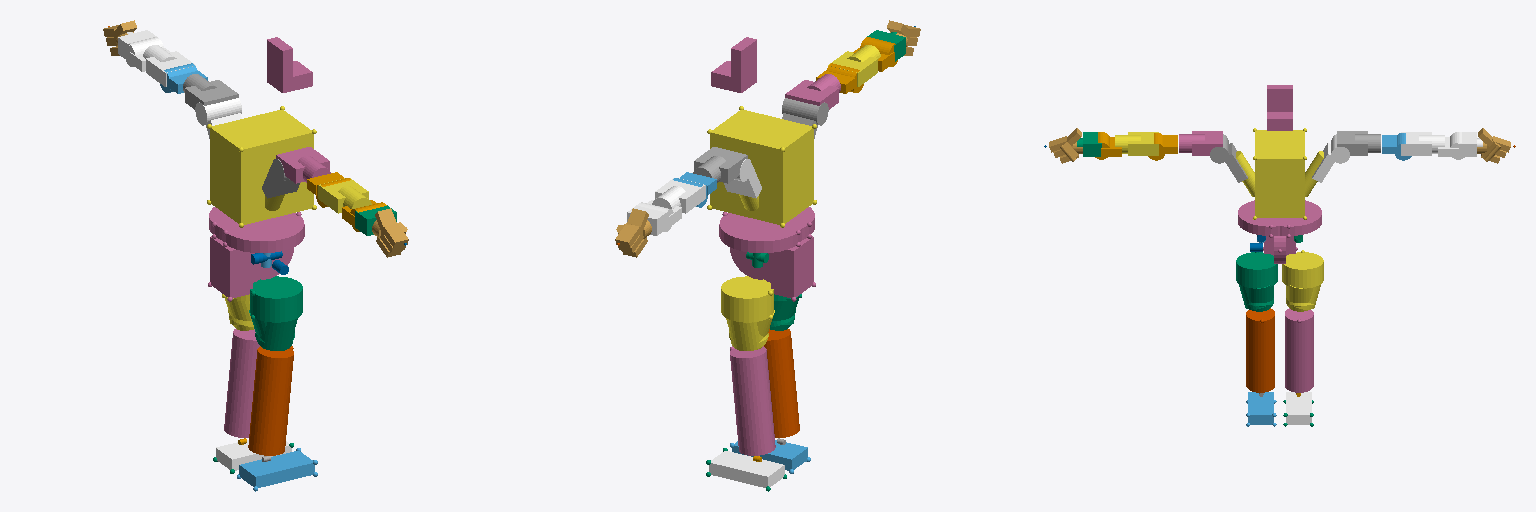
--- Render facts (derived) ---
3 views of the same robot in one strip: view 1: azimuth 30°, elevation 25°; view 2: azimuth 150°, elevation 25°; view 3: azimuth 270°, elevation 25° (orthographic).
Model atlas with 31 links and 30 joints (28 revolute, 2 fixed), rooted at pelvis, posed every joint at zero.
Visible links, largest first — view 1: utorso, pelvis, r_lleg, r_uleg, l_lleg, r_foot, head, r_scap, l_scap, r_larm, right_palm, l_larm (+7 smaller); view 2: utorso, pelvis, l_lleg, l_uleg, r_lleg, l_foot, head, l_scap, r_scap, l_larm, left_palm, r_larm (+7 smaller); view 3: utorso, pelvis, l_lleg, r_lleg, l_uleg, r_uleg, head, l_scap, r_scap, l_larm, r_larm, l_foot (+5 smaller).
Boxes of the visible links, x1,y1,x2,y2 form: utorso: [207, 106, 316, 227]; pelvis: [208, 207, 304, 301]; r_lleg: [248, 346, 293, 455]; r_uleg: [249, 276, 302, 350]; l_lleg: [224, 329, 259, 437]; r_foot: [237, 448, 317, 491]; head: [267, 37, 312, 92]; r_scap: [276, 147, 330, 183]; l_scap: [183, 74, 238, 109]; r_larm: [318, 178, 371, 213]; right_palm: [372, 208, 408, 257]; l_larm: [143, 45, 195, 86]; utorso: [707, 106, 816, 227]; pelvis: [719, 207, 815, 301]; l_lleg: [730, 346, 775, 455]; l_uleg: [721, 276, 774, 350]; r_lleg: [764, 329, 799, 437]; l_foot: [706, 448, 786, 491]; head: [711, 37, 756, 92]; l_scap: [693, 147, 747, 183]; r_scap: [785, 74, 840, 109]; l_larm: [652, 178, 705, 213]; left_palm: [615, 208, 651, 257]; r_larm: [828, 45, 880, 86]; utorso: [1236, 128, 1323, 219]; pelvis: [1238, 200, 1321, 263]; l_lleg: [1285, 308, 1313, 392]; r_lleg: [1246, 308, 1274, 392]; l_uleg: [1282, 250, 1323, 311]; r_uleg: [1236, 252, 1277, 311]; head: [1267, 85, 1292, 130]; l_scap: [1337, 131, 1380, 155]; r_scap: [1179, 131, 1222, 155]; l_larm: [1401, 132, 1444, 155]; r_larm: [1115, 132, 1158, 155]; l_foot: [1283, 392, 1313, 426].
Size in the robot's own frame: 0.3795 by 2.26 by 1.76 metres.
Geometry: primitives only (box / cylinder / sphere), no mesh files.

The robot description file, URDF, robot "atlas":
<?xml version="1.0" ?>
<!-- =================================================================================== -->
<!-- |    This document was autogenerated by xacro from atlas_simple_visuals.urdf.xacro | -->
<!-- |    EDITING THIS FILE BY HAND IS NOT RECOMMENDED                                 | -->
<!-- =================================================================================== -->
<robot name="atlas" xmlns:xacro="http://www.ros.org/wiki/xacro">
  <link name="l_clav">
    <inertial>
      <mass value="2.369"/>
      <origin rpy="0 -0 0" xyz="0.014 0.058 0.029"/>
      <inertia ixx="0.004" ixy="0.001" ixz="0" iyy="0.006" iyz="0" izz="0.007"/>
    </inertial>
    <collision group="default">
      <origin rpy="0 1.5707963267949 0" xyz="0 0.0697 0.0261"/>
      <geometry>
        <cylinder length="0.1525" radius="0.045"/>
      </geometry>
    </collision>
    <visual>
      <origin rpy="0 1.5707963267949 0" xyz="0 0.0697 0.0261"/>
      <geometry>
        <cylinder length="0.1525" radius="0.045"/>
      </geometry>
      <material name="vis">
        <color rgba="1 1 1 1"/>
      </material>
    </visual>
    <collision group="default">
      <origin rpy="1.0472 0 0" xyz="-0.005 -0.0074 -0.0538"/>
      <geometry>
        <box size="0.13 0.15 0.05"/>
      </geometry>
    </collision>
    <visual>
      <origin rpy="1.0472 0 0" xyz="-0.005 -0.0074 -0.0538"/>
      <geometry>
        <box size="0.13 0.15 0.05"/>
      </geometry>
      <material name="vis">
        <color rgba="1 1 1 1"/>
      </material>
    </visual>
  </link>
  <link name="l_farm">
    <inertial>
      <mass value="0.981"/>
      <origin rpy="0 -0 0" xyz="0 0.041 0"/>
      <inertia ixx="0.003" ixy="0" ixz="0" iyy="0.001" iyz="0" izz="0.003"/>
    </inertial>
    <collision group="default">
      <origin rpy="0 1.5708 0" xyz="0.0 0.065 0.004"/>
      <geometry>
        <cylinder length="0.125" radius="0.045"/>
      </geometry>
    </collision>
    <visual>
      <origin rpy="0 1.5708 0" xyz="0.0 0.065 0.004"/>
      <geometry>
        <cylinder length="0.125" radius="0.045"/>
      </geometry>
      <material name="vis">
        <color rgba="1 1 1 1"/>
      </material>
    </visual>
    <collision group="default">
      <origin rpy="0 0 0" xyz="0.001 0.015 -0.002"/>
      <geometry>
        <box size="0.135 0.1 0.045"/>
      </geometry>
    </collision>
    <visual>
      <origin rpy="0 0 0" xyz="0.001 0.015 -0.002"/>
      <geometry>
        <box size="0.135 0.1 0.045"/>
      </geometry>
      <material name="vis">
        <color rgba="1 1 1 1"/>
      </material>
    </visual>
  </link>
  <link name="l_foot">
    <inertial>
      <mass value="0.867"/>
      <origin rpy="0 -0 0" xyz="0.027 0 -0.067"/>
      <inertia ixx="0.002" ixy="0" ixz="0" iyy="0.00350421" iyz="0" izz="0.00400651"/>
    </inertial>
    <collision group="heel">
      <origin rpy="0 0 0" xyz="-0.082 0.0624435 -0.081119"/>
      <geometry>
        <sphere radius="0"/>
      </geometry>
    </collision>
    <visual>
      <origin rpy="0 0 0" xyz="-0.082 0.0624435 -0.081119"/>
      <geometry>
        <sphere radius="0.01"/>
      </geometry>
    </visual>
    <collision group="heel">
      <origin rpy="0 0 0" xyz="-0.082 -0.0624435 -0.081119"/>
      <geometry>
        <sphere radius="0"/>
      </geometry>
    </collision>
    <visual>
      <origin rpy="0 0 0" xyz="-0.082 -0.0624435 -0.081119"/>
      <geometry>
        <sphere radius="0.01"/>
      </geometry>
    </visual>
    <collision group="toe">
      <origin rpy="0 0 0" xyz="0.178 0.0624435 -0.081119"/>
      <geometry>
        <sphere radius="0"/>
      </geometry>
    </collision>
    <visual>
      <origin rpy="0 0 0" xyz="0.178 0.0624435 -0.081119"/>
      <geometry>
        <sphere radius="0.01"/>
      </geometry>
    </visual>
    <collision group="toe">
      <origin rpy="0 0 0" xyz="0.178 -0.0624435 -0.081119"/>
      <geometry>
        <sphere radius="0"/>
      </geometry>
    </collision>
    <visual>
      <origin rpy="0 0 0" xyz="0.178 -0.0624435 -0.081119"/>
      <geometry>
        <sphere radius="0.01"/>
      </geometry>
    </visual>
    <collision group="nail">
      <origin rpy="0 0 0" xyz="0.178 0.0624435 -0.081119"/>
      <geometry>
        <sphere radius="0"/>
      </geometry>
    </collision>
    <visual>
      <origin rpy="0 0 0" xyz="0.178 0.0624435 -0.081119"/>
      <geometry>
        <sphere radius="0.01"/>
      </geometry>
    </visual>
    <collision group="nail">
      <origin rpy="0 0 0" xyz="0.178 -0.0624435 -0.081119"/>
      <geometry>
        <sphere radius="0"/>
      </geometry>
    </collision>
    <visual>
      <origin rpy="0 0 0" xyz="0.178 -0.0624435 -0.081119"/>
      <geometry>
        <sphere radius="0.01"/>
      </geometry>
    </visual>
    <collision group="nail">
      <origin rpy="0 0 0" xyz="0.178 0.0624435 -0.031119"/>
      <geometry>
        <sphere radius="0"/>
      </geometry>
    </collision>
    <visual>
      <origin rpy="0 0 0" xyz="0.178 0.0624435 -0.031119"/>
      <geometry>
        <sphere radius="0.01"/>
      </geometry>
    </visual>
    <collision group="nail">
      <origin rpy="0 0 0" xyz="0.178 -0.0624435 -0.031119"/>
      <geometry>
        <sphere radius="0"/>
      </geometry>
    </collision>
    <visual>
      <origin rpy="0 0 0" xyz="0.178 -0.0624435 -0.031119"/>
      <geometry>
        <sphere radius="0.01"/>
      </geometry>
    </visual>
    <collision group="default">
      <origin rpy="0 0 0" xyz="0.048 0 -0.056119"/>
      <geometry>
        <box size="0.26 0.124887 0.05"/>
      </geometry>
    </collision>
    <visual>
      <origin rpy="0 0 0" xyz="0.048 0 -0.056119"/>
      <geometry>
        <box size="0.26 0.124887 0.05"/>
      </geometry>
      <material name="vis">
        <color rgba="1 1 1 1"/>
      </material>
    </visual>
  </link>
  <link name="l_hand">
    <inertial>
      <mass value="2.263"/>
      <origin rpy="0 -0 0" xyz="0 0.093 0"/>
      <inertia ixx="0.01" ixy="0" ixz="0" iyy="0.002" iyz="0" izz="0.01"/>
    </inertial>
    <collision group="default">
      <origin rpy="0 0 0" xyz="0.0 0.115 0.0"/>
      <geometry>
        <sphere radius="0"/>
      </geometry>
    </collision>
    <visual>
      <origin rpy="0 0 0" xyz="0.0 0.115 0.0"/>
      <geometry>
        <sphere radius="0.01"/>
      </geometry>
    </visual>
    <collision group="default">
      <origin rpy="1.5707963267949 0 0" xyz="0.001 0.1 0.01"/>
      <geometry>
        <cylinder length="0.05" radius="0.03"/>
      </geometry>
    </collision>
    <visual>
      <origin rpy="1.5707963267949 0 0" xyz="0.001 0.1 0.01"/>
      <geometry>
        <cylinder length="0.05" radius="0.03"/>
      </geometry>
      <material name="vis">
        <color rgba="1 1 1 1"/>
      </material>
    </visual>
    <collision group="default">
      <origin rpy="0 0 0" xyz="0.001 0.05 0.01"/>
      <geometry>
        <box size="0.13 0.09 0.07"/>
      </geometry>
    </collision>
    <visual>
      <origin rpy="0 0 0" xyz="0.001 0.05 0.01"/>
      <geometry>
        <box size="0.13 0.09 0.07"/>
      </geometry>
      <material name="vis">
        <color rgba="1 1 1 1"/>
      </material>
    </visual>
  </link>
  <link name="l_larm">
    <inertial>
      <mass value="2.148"/>
      <origin rpy="0 -0 0" xyz="-0.003 0.099 -0.014"/>
      <inertia ixx="0.005" ixy="0" ixz="0" iyy="0.003" iyz="0" izz="0.006"/>
    </inertial>
    <collision group="default">
      <origin rpy="1.5707963267949 0 0" xyz="0.001 0.127 0.00"/>
      <geometry>
        <cylinder length="0.125" radius="0.045"/>
      </geometry>
    </collision>
    <visual>
      <origin rpy="1.5707963267949 0 0" xyz="0.001 0.127 0.00"/>
      <geometry>
        <cylinder length="0.125" radius="0.045"/>
      </geometry>
      <material name="vis">
        <color rgba="1 1 1 1"/>
      </material>
    </visual>
    <collision group="default">
      <origin rpy="0 0 0" xyz="0.001 0.051 0.0"/>
      <geometry>
        <box size="0.135 0.15 0.06"/>
      </geometry>
    </collision>
    <visual>
      <origin rpy="0 0 0" xyz="0.001 0.051 0.0"/>
      <geometry>
        <box size="0.135 0.15 0.06"/>
      </geometry>
      <material name="vis">
        <color rgba="1 1 1 1"/>
      </material>
    </visual>
    <collision group="wrist">
      <origin rpy="0 0 0" xyz="0 0.246 -0.013"/>
      <geometry>
        <sphere radius="0"/>
      </geometry>
    </collision>
    <visual>
      <origin rpy="0 0 0" xyz="0 0.246 -0.013"/>
      <geometry>
        <sphere radius="0.01"/>
      </geometry>
    </visual>
  </link>
  <link name="l_lglut">
    <inertial>
      <mass value="0.803"/>
      <origin rpy="0 -0 0" xyz="0.0133341 0.0170484 -0.0312052"/>
      <inertia ixx="0.0453457" ixy="-2.24344e-05" ixz="2.50508e-06" iyy="0.0174182" iyz="0.000137862" izz="0.0071591"/>
    </inertial>
  </link>
  <link name="l_lleg">
    <inertial>
      <mass value="4.367"/>
      <origin rpy="0 -0 0" xyz="0.001 0 -0.187"/>
      <inertia ixx="0.077" ixy="0" ixz="-0.003" iyy="0.076" iyz="0" izz="0.01"/>
    </inertial>
    <visual group="default">
      <origin rpy="0 0.10 0" xyz="0.02 0.00295 -0.18"/>
      <geometry>
        <cylinder length="0.40" radius="0.07"/>
      </geometry>
    </visual>
    <collision group="knee">
      <origin rpy="0 0 0" xyz="0.1096 0.0029 0.012"/>
      <geometry>
        <sphere radius="0"/>
      </geometry>
    </collision>
    <visual>
      <origin rpy="0 0 0" xyz="0.1096 0.0029 0.012"/>
      <geometry>
        <sphere radius="0.01"/>
      </geometry>
    </visual>
    <collision group="default">
      <origin rpy="0 0.10 0" xyz="0.02 0.00295 -0.18"/>
      <geometry>
        <cylinder length="0.40" radius="0.07"/>
      </geometry>
    </collision>
    <collision>
      <origin rpy="0 0 0" xyz="0.049 0.0 -0.05"/>
      <geometry>
        <sphere radius="0"/>
      </geometry>
    </collision>
  </link>
  <link name="l_scap">
    <inertial>
      <mass value="2.707"/>
      <origin rpy="0 -0 0" xyz="-0.002 0.108 0"/>
      <inertia ixx="0.01" ixy="0" ixz="0" iyy="0.005" iyz="0" izz="0.013"/>
    </inertial>
    <visual group="default">
      <origin rpy="1.5707963267949 0 0" xyz="0.001 0.12651 0.01521"/>
      <geometry>
        <cylinder length="0.125" radius="0.045"/>
      </geometry>
    </visual>
    <collision group="default">
      <origin rpy="1.5707963267949 0 0" xyz="0.001 0.12651 0.01521"/>
      <geometry>
        <cylinder length="0.125" radius="0.045"/>
      </geometry>
    </collision>
    <visual group="default">
      <origin rpy="0 0 0" xyz="0.001 0.05 0.016"/>
      <geometry>
        <box size="0.15 0.15 0.06"/>
      </geometry>
    </visual>
  </link>
  <link name="l_talus">
    <inertial>
      <mass value="0.867"/>
      <origin rpy="0 -0 0" xyz="0 0 0"/>
      <inertia ixx="0.001" ixy="0" ixz="0" iyy="0.00350421" iyz="0" izz="0.00400651"/>
    </inertial>
    <visual group="default">
      <origin rpy="0 1.5707963267949 0" xyz="0 0 0"/>
      <geometry>
        <cylinder length="0.029542" radius="0.010181"/>
      </geometry>
    </visual>
    <collision group="default">
      <origin rpy="0 1.5707963267949 0" xyz="0 0 0"/>
      <geometry>
        <cylinder length="0.029542" radius="0.010181"/>
      </geometry>
    </collision>
    <visual group="default">
      <origin rpy="1.5707963267949 0 0" xyz="0 0 0"/>
      <geometry>
        <cylinder length="0.010059" radius="0.010348"/>
      </geometry>
    </visual>
  </link>
  <link name="l_uarm">
    <inertial>
      <mass value="1.881"/>
      <origin rpy="0 -0 0" xyz="0.007 0.114 0.008"/>
      <inertia ixx="0.002" ixy="0" ixz="0" iyy="0.003" iyz="0" izz="0.003"/>
    </inertial>
    <visual group="default">
      <origin rpy="0 1.5708 0" xyz="0.001 0.111 0.0"/>
      <geometry>
        <cylinder length="0.125" radius="0.045"/>
      </geometry>
    </visual>
    <collision group="default">
      <origin rpy="0 1.5708 0" xyz="0.001 0.111 0.0"/>
      <geometry>
        <cylinder length="0.125" radius="0.045"/>
      </geometry>
    </collision>
    <visual group="default">
      <origin rpy="0 1.5707963267949 0" xyz="0.001 0.043 0.01"/>
      <geometry>
        <box size="0.04 0.07 0.13"/>
      </geometry>
    </visual>
  </link>
  <link name="l_uglut">
    <inertial>
      <mass value="1.51622"/>
      <origin rpy="0 -0 0" xyz="0.00529262 -0.00344732 0.00313046"/>
      <inertia ixx="0.0327037" ixy="-3.79607e-08" ixz="-2.79549e-05" iyy="0.0174182" iyz="-3.2735e-08" izz="0.0071591"/>
    </inertial>
    <visual group="default">
      <origin rpy="0 1.5707963267949 0" xyz="0 0 0"/>
      <geometry>
        <cylinder length="0.078396" radius="0.019096"/>
      </geometry>
    </visual>
    <visual group="default">
      <origin rpy="0 0 0" xyz="0 0 0"/>
      <geometry>
        <cylinder length="0.080842" radius="0.019841"/>
      </geometry>
    </visual>
  </link>
  <link name="l_uleg">
    <inertial>
      <mass value="7.227"/>
      <origin rpy="0 -0 0" xyz="0 0 -0.21"/>
      <inertia ixx="0.0453457" ixy="0" ixz="0" iyy="0.09" iyz="0" izz="0.0071591"/>
    </inertial>
    <collision group="hamstring">
      <origin rpy="0 0 0" xyz="-0.1179 0.02085 -0.18"/>
      <geometry>
        <sphere radius="0"/>
      </geometry>
    </collision>
    <visual>
      <origin rpy="0 0 0" xyz="-0.1179 0.02085 -0.18"/>
      <geometry>
        <sphere radius="0.01"/>
      </geometry>
    </visual>
    <collision group="hamstring">
      <origin rpy="0 0 0" xyz="-0.1179 0.02085 -0.08"/>
      <geometry>
        <sphere radius="0"/>
      </geometry>
    </collision>
    <visual>
      <origin rpy="0 0 0" xyz="-0.1179 0.02085 -0.08"/>
      <geometry>
        <sphere radius="0.01"/>
      </geometry>
    </visual>
    <visual group="default">
      <origin rpy="0 0 0" xyz="-0.0179 0.02085 -0.13"/>
      <geometry>
        <cylinder length="0.10" radius="0.1"/>
      </geometry>
    </visual>
    <collision group="default">
      <origin rpy="0 0 0" xyz="-0.0179 0.02085 -0.13"/>
      <geometry>
        <cylinder length="0.10" radius="0.1"/>
      </geometry>
    </collision>
    <visual group="default">
      <origin rpy="0 -0.3 0" xyz="-0.03 0.01 -0.23"/>
      <geometry>
        <cylinder length="0.15" radius="0.07"/>
      </geometry>
    </visual>
    <collision group="default">
      <origin rpy="0 -0.3 0" xyz="-0.03 0.01 -0.23"/>
      <geometry>
        <cylinder length="0.15" radius="0.07"/>
      </geometry>
    </collision>
    <visual group="default">
      <origin rpy="0 0.3 0" xyz="-0.005 0.01 -0.23"/>
      <geometry>
        <cylinder length="0.15" radius="0.07"/>
      </geometry>
    </visual>
    <collision group="default">
      <origin rpy="0 0.3 0" xyz="-0.005 0.01 -0.23"/>
      <geometry>
        <cylinder length="0.15" radius="0.07"/>
      </geometry>
    </collision>
    <visual group="default">
      <origin rpy="-0.25 0 0" xyz="-0.02 0.03 -0.23"/>
      <geometry>
        <cylinder length="0.15" radius="0.07"/>
      </geometry>
    </visual>
    <collision group="default">
      <origin rpy="-0.25 0 0" xyz="-0.02 0.03 -0.23"/>
      <geometry>
        <cylinder length="0.15" radius="0.07"/>
      </geometry>
    </collision>
  </link>
  <link name="ltorso">
    <inertial>
      <mass value="1.62729"/>
      <origin rpy="0 -0 0" xyz="-0.0112984 -3.15366e-06 0.0746835"/>
      <inertia ixx="0.0646646" ixy="-5.04491e-08" ixz="-0.000342157" iyy="0.050298" iyz="4.87119e-07" izz="0.10973"/>
    </inertial>
  </link>
  <link name="mtorso">
    <inertial>
      <mass value="3.8068"/>
      <origin rpy="0 -0 0" xyz="-0.00816266 -0.0131245 0.0305974"/>
      <inertia ixx="0.1975" ixy="-6.10764e-05" ixz="3.94009e-05" iyy="0.544742" iyz="5.27463e-05" izz="0.10973"/>
    </inertial>
    <visual group="default">
      <origin rpy="1.5707963267949 0 0" xyz="0 0 0"/>
      <geometry>
        <cylinder length="0.03" radius="0.017"/>
      </geometry>
    </visual>
    <collision group="default">
      <origin rpy="1.5707963267949 0 0" xyz="0 0 0"/>
      <geometry>
        <cylinder length="0.03" radius="0.017"/>
      </geometry>
    </collision>
    <visual group="default">
      <origin rpy="0 1.5707963267949 0" xyz="0.0285 0 0.05"/>
      <geometry>
        <cylinder length="0.02" radius="0.015"/>
      </geometry>
    </visual>
    <collision group="default">
      <origin rpy="0 1.5707963267949 0" xyz="0.0285 0 0.05"/>
      <geometry>
        <cylinder length="0.02" radius="0.015"/>
      </geometry>
    </collision>
    <visual group="default">
      <origin rpy="0 1.5707963267949 0" xyz="-0.0285 0 0.05"/>
      <geometry>
        <cylinder length="0.02" radius="0.015"/>
      </geometry>
    </visual>
    <collision group="default">
      <origin rpy="0 1.5707963267949 0" xyz="-0.0285 0 0.05"/>
      <geometry>
        <cylinder length="0.02" radius="0.015"/>
      </geometry>
    </collision>
  </link>
  <link name="pelvis">
    <inertial>
      <mass value="12.54638"/>
      <origin rpy="0 -0 0" xyz="0.0111 0 0.0271"/>
      <inertia ixx="0.0327037" ixy="0.0008" ixz="-0.0007" iyy="0.0174182" iyz="-0.0005" izz="0.118059"/>
    </inertial>
    <collision group="front">
      <origin rpy="0 0 0" xyz="0.17 0.042 0.115"/>
      <geometry>
        <sphere radius="0"/>
      </geometry>
    </collision>
    <visual>
      <origin rpy="0 0 0" xyz="0.17 0.042 0.115"/>
      <geometry>
        <sphere radius="0.01"/>
      </geometry>
    </visual>
    <collision group="front">
      <origin rpy="0 0 0" xyz="0.17 -0.042 0.115"/>
      <geometry>
        <sphere radius="0"/>
      </geometry>
    </collision>
    <visual>
      <origin rpy="0 0 0" xyz="0.17 -0.042 0.115"/>
      <geometry>
        <sphere radius="0.01"/>
      </geometry>
    </visual>
    <collision group="front">
      <origin rpy="0 0 0" xyz="0.17 0.042 0.065"/>
      <geometry>
        <sphere radius="0"/>
      </geometry>
    </collision>
    <visual>
      <origin rpy="0 0 0" xyz="0.17 0.042 0.065"/>
      <geometry>
        <sphere radius="0.01"/>
      </geometry>
    </visual>
    <collision group="front">
      <origin rpy="0 0 0" xyz="0.17 -0.042 0.065"/>
      <geometry>
        <sphere radius="0"/>
      </geometry>
    </collision>
    <visual>
      <origin rpy="0 0 0" xyz="0.17 -0.042 0.065"/>
      <geometry>
        <sphere radius="0.01"/>
      </geometry>
    </visual>
    <collision group="back">
      <origin rpy="0 0 0" xyz="-0.15 0.042 0.115"/>
      <geometry>
        <sphere radius="0"/>
      </geometry>
    </collision>
    <visual>
      <origin rpy="0 0 0" xyz="-0.15 0.042 0.115"/>
      <geometry>
        <sphere radius="0.01"/>
      </geometry>
    </visual>
    <collision group="back">
      <origin rpy="0 0 0" xyz="-0.15 -0.042 0.115"/>
      <geometry>
        <sphere radius="0"/>
      </geometry>
    </collision>
    <visual>
      <origin rpy="0 0 0" xyz="-0.15 -0.042 0.115"/>
      <geometry>
        <sphere radius="0.01"/>
      </geometry>
    </visual>
    <collision group="back">
      <origin rpy="0 0 0" xyz="-0.15 0.042 0.065"/>
      <geometry>
        <sphere radius="0"/>
      </geometry>
    </collision>
    <visual>
      <origin rpy="0 0 0" xyz="-0.15 0.042 0.065"/>
      <geometry>
        <sphere radius="0.01"/>
      </geometry>
    </visual>
    <collision group="back">
      <origin rpy="0 0 0" xyz="-0.15 -0.042 0.065"/>
      <geometry>
        <sphere radius="0"/>
      </geometry>
    </collision>
    <visual>
      <origin rpy="0 0 0" xyz="-0.15 -0.042 0.065"/>
      <geometry>
        <sphere radius="0.01"/>
      </geometry>
    </visual>
    <collision group="front">
      <origin rpy="0 0 0" xyz="0.156 0.0 -0.02"/>
      <geometry>
        <sphere radius="0"/>
      </geometry>
    </collision>
    <visual>
      <origin rpy="0 0 0" xyz="0.156 0.0 -0.02"/>
      <geometry>
        <sphere radius="0.01"/>
      </geometry>
    </visual>
    <collision group="butt">
      <origin rpy="0 0 0" xyz="-0.15 0.075 -0.15"/>
      <geometry>
        <sphere radius="0"/>
      </geometry>
    </collision>
    <visual>
      <origin rpy="0 0 0" xyz="-0.15 0.075 -0.15"/>
      <geometry>
        <sphere radius="0.01"/>
      </geometry>
    </visual>
    <collision group="butt">
      <origin rpy="0 0 0" xyz="-0.15 -0.075 -0.15"/>
      <geometry>
        <sphere radius="0"/>
      </geometry>
    </collision>
    <visual>
      <origin rpy="0 0 0" xyz="-0.15 -0.075 -0.15"/>
      <geometry>
        <sphere radius="0.01"/>
      </geometry>
    </visual>
    <collision group="butt_left">
      <origin rpy="0 0 0" xyz="-0.15 0.075 -0.15"/>
      <geometry>
        <sphere radius="0"/>
      </geometry>
    </collision>
    <visual>
      <origin rpy="0 0 0" xyz="-0.15 0.075 -0.15"/>
      <geometry>
        <sphere radius="0.01"/>
      </geometry>
    </visual>
    <collision group="butt_left">
      <origin rpy="0 0 0" xyz="-0.05 0.075 -0.15"/>
      <geometry>
        <sphere radius="0"/>
      </geometry>
    </collision>
    <visual>
      <origin rpy="0 0 0" xyz="-0.05 0.075 -0.15"/>
      <geometry>
        <sphere radius="0.01"/>
      </geometry>
    </visual>
    <collision group="butt_right">
      <origin rpy="0 0 0" xyz="-0.15 -0.075 -0.15"/>
      <geometry>
        <sphere radius="0"/>
      </geometry>
    </collision>
    <visual>
      <origin rpy="0 0 0" xyz="-0.15 -0.075 -0.15"/>
      <geometry>
        <sphere radius="0.01"/>
      </geometry>
    </visual>
    <collision group="butt_right">
      <origin rpy="0 0 0" xyz="-0.05 -0.075 -0.15"/>
      <geometry>
        <sphere radius="0"/>
      </geometry>
    </collision>
    <visual>
      <origin rpy="0 0 0" xyz="-0.05 -0.075 -0.15"/>
      <geometry>
        <sphere radius="0.01"/>
      </geometry>
    </visual>
    <visual group="default">
      <origin rpy="0 0 0" xyz="-0.1 0 -0.05"/>
      <geometry>
        <box size="0.1 0.15 0.2"/>
      </geometry>
    </visual>
    <collision group="default">
      <origin rpy="0 0 0" xyz="-0.1 0 -0.05"/>
      <geometry>
        <box size="0.1 0.15 0.2"/>
      </geometry>
    </collision>
    <visual group="default">
      <origin rpy="1.5707963267949 0 0" xyz="0.046 0.0 -0.02"/>
      <geometry>
        <cylinder length="0.06" radius="0.11"/>
      </geometry>
    </visual>
    <collision group="default">
      <origin rpy="1.5707963267949 0 0" xyz="0.046 0.0 -0.02"/>
      <geometry>
        <cylinder length="0.06" radius="0.11"/>
      </geometry>
    </collision>
    <visual group="default">
      <origin rpy="1.5707963267949 0 0" xyz="-0.03 0.0 -0.02"/>
      <geometry>
        <cylinder length="0.06" radius="0.11"/>
      </geometry>
    </visual>
    <collision group="default">
      <origin rpy="1.5707963267949 0 0" xyz="-0.03 0.0 -0.02"/>
      <geometry>
        <cylinder length="0.06" radius="0.11"/>
      </geometry>
    </collision>
    <visual group="default">
      <origin rpy="0 0 0" xyz="0.01 0.042 0.09"/>
      <geometry>
        <cylinder length="0.05" radius="0.16"/>
      </geometry>
    </visual>
    <collision group="default">
      <origin rpy="0 0 0" xyz="0.01 0.042 0.09"/>
      <geometry>
        <cylinder length="0.05" radius="0.16"/>
      </geometry>
    </collision>
    <visual group="default">
      <origin rpy="0 0 0" xyz="0.01 -0.042 0.09"/>
      <geometry>
        <cylinder length="0.05" radius="0.16"/>
      </geometry>
    </visual>
    <collision group="default">
      <origin rpy="0 0 0" xyz="0.01 -0.042 0.09"/>
      <geometry>
        <cylinder length="0.05" radius="0.16"/>
      </geometry>
    </collision>
    <visual group="default">
      <origin rpy="0 0 0" xyz="-0.1 0 -0.05"/>
      <geometry>
        <box size="0.1 0.15 0.2"/>
      </geometry>
    </visual>
    <collision group="default">
      <origin rpy="0 0 0" xyz="-0.1 0 -0.05"/>
      <geometry>
        <box size="0.1 0.15 0.2"/>
      </geometry>
    </collision>
  </link>
  <link name="r_clav">
    <inertial>
      <mass value="2.369"/>
      <origin rpy="0 -0 0" xyz="0.014 -0.058 0.029"/>
      <inertia ixx="0.004" ixy="-0.001" ixz="0" iyy="0.006" iyz="0" izz="0.007"/>
    </inertial>
    <visual group="default">
      <origin rpy="0 1.5707963267949 0" xyz="0 -0.0697 0.0261"/>
      <geometry>
        <cylinder length="0.1525" radius="0.045"/>
      </geometry>
    </visual>
    <collision group="default">
      <origin rpy="0 1.5707963267949 0" xyz="0 -0.0697 0.0261"/>
      <geometry>
        <cylinder length="0.1525" radius="0.045"/>
      </geometry>
    </collision>
    <visual group="default">
      <origin rpy="-1.0472 0 0" xyz="-0.005 0.0074 -0.0538"/>
      <geometry>
        <box size="0.13 0.15 0.05"/>
      </geometry>
    </visual>
    <collision group="default">
      <origin rpy="-1.0472 0 0" xyz="-0.005 0.0074 -0.0538"/>
      <geometry>
        <box size="0.13 0.15 0.05"/>
      </geometry>
    </collision>
  </link>
  <link name="r_farm">
    <inertial>
      <mass value="0.981"/>
      <origin rpy="0 -0 0" xyz="0 -0.041 0"/>
      <inertia ixx="0.003" ixy="0" ixz="0" iyy="0.001" iyz="0" izz="0.003"/>
    </inertial>
    <visual group="default">
      <origin rpy="0 1.5708 0" xyz="0.0 -0.065 0.004"/>
      <geometry>
        <cylinder length="0.125" radius="0.045"/>
      </geometry>
    </visual>
    <collision group="default">
      <origin rpy="0 1.5708 0" xyz="0.0 -0.065 0.004"/>
      <geometry>
        <cylinder length="0.125" radius="0.045"/>
      </geometry>
    </collision>
    <visual group="default">
      <origin rpy="0 0 0" xyz="0.001 -0.015 -0.002"/>
      <geometry>
        <box size="0.135 0.1 0.045"/>
      </geometry>
    </visual>
    <collision group="default">
      <origin rpy="0 0 0" xyz="0.001 -0.015 -0.002"/>
      <geometry>
        <box size="0.135 0.1 0.045"/>
      </geometry>
    </collision>
  </link>
  <link name="r_foot">
    <inertial>
      <mass value="0.867"/>
      <origin rpy="0 -0 0" xyz="0.027 0 -0.067"/>
      <inertia ixx="0.002" ixy="0" ixz="0" iyy="0.00350421" iyz="0" izz="0.00400651"/>
    </inertial>
    <collision group="heel">
      <origin rpy="0 0 0" xyz="-0.082 0.0624435 -0.081119"/>
      <geometry>
        <sphere radius="0"/>
      </geometry>
    </collision>
    <visual>
      <origin rpy="0 0 0" xyz="-0.082 0.0624435 -0.081119"/>
      <geometry>
        <sphere radius="0.01"/>
      </geometry>
    </visual>
    <collision group="heel">
      <origin rpy="0 0 0" xyz="-0.082 -0.0624435 -0.081119"/>
      <geometry>
        <sphere radius="0"/>
      </geometry>
    </collision>
    <visual>
      <origin rpy="0 0 0" xyz="-0.082 -0.0624435 -0.081119"/>
      <geometry>
        <sphere radius="0.01"/>
      </geometry>
    </visual>
    <collision group="toe">
      <origin rpy="0 0 0" xyz="0.178 0.0624435 -0.081119"/>
      <geometry>
        <sphere radius="0"/>
      </geometry>
    </collision>
    <visual>
      <origin rpy="0 0 0" xyz="0.178 0.0624435 -0.081119"/>
      <geometry>
        <sphere radius="0.01"/>
      </geometry>
    </visual>
    <collision group="toe">
      <origin rpy="0 0 0" xyz="0.178 -0.0624435 -0.081119"/>
      <geometry>
        <sphere radius="0"/>
      </geometry>
    </collision>
    <visual>
      <origin rpy="0 0 0" xyz="0.178 -0.0624435 -0.081119"/>
      <geometry>
        <sphere radius="0.01"/>
      </geometry>
    </visual>
    <collision group="nail">
      <origin rpy="0 0 0" xyz="0.178 0.0624435 -0.081119"/>
      <geometry>
        <sphere radius="0"/>
      </geometry>
    </collision>
    <visual>
      <origin rpy="0 0 0" xyz="0.178 0.0624435 -0.081119"/>
      <geometry>
        <sphere radius="0.01"/>
      </geometry>
    </visual>
    <collision group="nail">
      <origin rpy="0 0 0" xyz="0.178 -0.0624435 -0.081119"/>
      <geometry>
        <sphere radius="0"/>
      </geometry>
    </collision>
    <visual>
      <origin rpy="0 0 0" xyz="0.178 -0.0624435 -0.081119"/>
      <geometry>
        <sphere radius="0.01"/>
      </geometry>
    </visual>
    <collision group="nail">
      <origin rpy="0 0 0" xyz="0.178 0.0624435 -0.031119"/>
      <geometry>
        <sphere radius="0"/>
      </geometry>
    </collision>
    <visual>
      <origin rpy="0 0 0" xyz="0.178 0.0624435 -0.031119"/>
      <geometry>
        <sphere radius="0.01"/>
      </geometry>
    </visual>
    <collision group="nail">
      <origin rpy="0 0 0" xyz="0.178 -0.0624435 -0.031119"/>
      <geometry>
        <sphere radius="0"/>
      </geometry>
    </collision>
    <visual>
      <origin rpy="0 0 0" xyz="0.178 -0.0624435 -0.031119"/>
      <geometry>
        <sphere radius="0.01"/>
      </geometry>
    </visual>
    <visual group="default">
      <origin rpy="0 0 0" xyz="0.048 0 -0.056119"/>
      <geometry>
        <box size="0.26 0.124887 0.05"/>
      </geometry>
    </visual>
    <collision group="default">
      <origin rpy="0 0 0" xyz="0.048 0 -0.056119"/>
      <geometry>
        <box size="0.26 0.124887 0.05"/>
      </geometry>
    </collision>
  </link>
  <link name="r_hand">
    <inertial>
      <mass value="2.263"/>
      <origin rpy="0 -0 0" xyz="0 -0.093 0"/>
      <inertia ixx="0.01" ixy="0" ixz="0" iyy="0.002" iyz="0" izz="0.01"/>
    </inertial>
    <collision group="palm">
      <origin rpy="0 0 0" xyz="0.0 -0.115 0.0"/>
      <geometry>
        <sphere radius="0"/>
      </geometry>
    </collision>
    <visual>
      <origin rpy="0 0 0" xyz="0.0 -0.115 0.0"/>
      <geometry>
        <sphere radius="0.01"/>
      </geometry>
    </visual>
    <visual group="default">
      <origin rpy="1.5707963267949 0 0" xyz="0.001 -0.1 0.01"/>
      <geometry>
        <cylinder length="0.05" radius="0.03"/>
      </geometry>
    </visual>
    <collision group="default">
      <origin rpy="1.5707963267949 0 0" xyz="0.001 -0.1 0.01"/>
      <geometry>
        <cylinder length="0.05" radius="0.03"/>
      </geometry>
    </collision>
    <visual group="default">
      <origin rpy="0 0 0" xyz="0.001 -0.05 0.01"/>
      <geometry>
        <box size="0.13 0.09 0.07"/>
      </geometry>
    </visual>
    <collision group="default">
      <origin rpy="0 0 0" xyz="0.001 -0.05 0.01"/>
      <geometry>
        <box size="0.13 0.09 0.07"/>
      </geometry>
    </collision>
    <collision>
      <origin rpy="0 0 0" xyz="0.0 -0.115 0.0"/>
      <geometry>
        <sphere radius="0"/>
      </geometry>
    </collision>
  </link>
  <link name="r_larm">
    <inertial>
      <mass value="2.148"/>
      <origin rpy="0 -0 0" xyz="-0.003 -0.099 -0.014"/>
      <inertia ixx="0.005" ixy="0" ixz="0" iyy="0.003" iyz="0" izz="0.006"/>
    </inertial>
    <collision group="elbow">
      <origin rpy="0 0 0" xyz="0 0 0"/>
      <geometry>
        <sphere radius="0"/>
      </geometry>
    </collision>
    <visual group="default">
      <origin rpy="1.5707963267949 0 0" xyz="0.001 -0.127 0.00"/>
      <geometry>
        <cylinder length="0.125" radius="0.045"/>
      </geometry>
    </visual>
    <collision group="default">
      <origin rpy="1.5707963267949 0 0" xyz="0.001 -0.127 0.00"/>
      <geometry>
        <cylinder length="0.125" radius="0.045"/>
      </geometry>
    </collision>
    <visual group="default">
      <origin rpy="0 0 0" xyz="0.001 -0.051 0.0"/>
      <geometry>
        <box size="0.135 0.15 0.06"/>
      </geometry>
    </visual>
    <collision group="default">
      <origin rpy="0 0 0" xyz="0.001 -0.051 0.0"/>
      <geometry>
        <box size="0.135 0.15 0.06"/>
      </geometry>
    </collision>
    <collision group="wrist">
      <origin rpy="0 0 0" xyz="0 -0.246 -0.013"/>
      <geometry>
        <sphere radius="0"/>
      </geometry>
    </collision>
    <visual>
      <origin rpy="0 0 0" xyz="0 -0.246 -0.013"/>
      <geometry>
        <sphere radius="0.01"/>
      </geometry>
    </visual>
  </link>
  <link name="r_lglut">
    <inertial>
      <mass value="0.803"/>
      <origin rpy="0 -0 0" xyz="0.0133341 -0.0170484 -0.0312052"/>
      <inertia ixx="0.0453457" ixy="2.24344e-05" ixz="2.50508e-06" iyy="0.0174182" iyz="-0.000137862" izz="0.0071591"/>
    </inertial>
    <visual group="default">
      <origin rpy="1.5707963267949 0 0" xyz="0.049968 -0.022488 -0.0501165"/>
      <geometry>
        <cylinder length="0.060306" radius="0.02009687"/>
      </geometry>
    </visual>
    <visual group="default">
      <origin rpy="0 1.5707963267949 0" xyz="0 0 0"/>
      <geometry>
        <cylinder length="0.12" radius="0.02"/>
      </geometry>
    </visual>
  </link>
  <link name="r_lleg">
    <inertial>
      <mass value="4.367"/>
      <origin rpy="0 -0 0" xyz="0.001 0 -0.187"/>
      <inertia ixx="0.077" ixy="-0" ixz="-0.003" iyy="0.076" iyz="-0" izz="0.01"/>
    </inertial>
    <visual group="default">
      <origin rpy="0 0.10 0" xyz="0.02 -0.00295 -0.18"/>
      <geometry>
        <cylinder length="0.40" radius="0.07"/>
      </geometry>
    </visual>
    <collision group="default">
      <origin rpy="0 0.10 0" xyz="0.02 -0.00295 -0.18"/>
      <geometry>
        <cylinder length="0.40" radius="0.07"/>
      </geometry>
    </collision>
    <collision>
      <origin rpy="0 0 0" xyz="0.049 0.0 -0.05"/>
      <geometry>
        <sphere radius="0"/>
      </geometry>
    </collision>
    <collision group="knee">
      <origin rpy="0 0 0" xyz="0.1096 0.0029 0.012"/>
      <geometry>
        <sphere radius="0"/>
      </geometry>
    </collision>
    <visual>
      <origin rpy="0 0 0" xyz="0.1096 0.0029 0.012"/>
      <geometry>
        <sphere radius="0.01"/>
      </geometry>
    </visual>
  </link>
  <link name="r_scap">
    <inertial>
      <mass value="2.707"/>
      <origin rpy="0 -0 0" xyz="-0.002 -0.108 0"/>
      <inertia ixx="0.01" ixy="0" ixz="0" iyy="0.005" iyz="0" izz="0.013"/>
    </inertial>
    <collision group="shoulder">
      <origin rpy="0 0 0" xyz="0.001 -0.12651 0.01521"/>
      <geometry>
        <sphere radius="0"/>
      </geometry>
    </collision>
    <visual group="default">
      <origin rpy="1.5707963267949 0 0" xyz="0.001 -0.12651 0.01521"/>
      <geometry>
        <cylinder length="0.125" radius="0.045"/>
      </geometry>
    </visual>
    <collision group="default">
      <origin rpy="1.5707963267949 0 0" xyz="0.001 -0.12651 0.01521"/>
      <geometry>
        <cylinder length="0.125" radius="0.045"/>
      </geometry>
    </collision>
    <visual group="default">
      <origin rpy="0 0 0" xyz="0.001 -0.05 0.016"/>
      <geometry>
        <box size="0.15 0.15 0.06"/>
      </geometry>
    </visual>
    <collision group="default">
      <origin rpy="0 0 0" xyz="0.001 -0.05 0.016"/>
      <geometry>
        <box size="0.15 0.15 0.06"/>
      </geometry>
    </collision>
  </link>
  <link name="r_talus">
    <inertial>
      <mass value="0.867"/>
      <origin rpy="0 -0 0" xyz="0 0 0"/>
      <inertia ixx="0.001" ixy="0" ixz="0" iyy="0.00350421" iyz="0" izz="0.00400651"/>
    </inertial>
    <visual group="default">
      <origin rpy="0 1.5707963267949 0" xyz="0 0 0"/>
      <geometry>
        <cylinder length="0.029542" radius="0.010181"/>
      </geometry>
    </visual>
    <collision group="default">
      <origin rpy="0 1.5707963267949 0" xyz="0 0 0"/>
      <geometry>
        <cylinder length="0.029542" radius="0.010181"/>
      </geometry>
    </collision>
    <visual group="default">
      <origin rpy="1.5707963267949 0 0" xyz="0 0 0"/>
      <geometry>
        <cylinder length="0.010059" radius="0.010348"/>
      </geometry>
    </visual>
    <collision group="default">
      <origin rpy="1.5707963267949 0 0" xyz="0 0 0"/>
      <geometry>
        <cylinder length="0.010059" radius="0.010348"/>
      </geometry>
    </collision>
  </link>
  <link name="r_uarm">
    <inertial>
      <mass value="1.881"/>
      <origin rpy="0 -0 0" xyz="0.007 -0.114 0.008"/>
      <inertia ixx="0.002" ixy="0" ixz="0" iyy="0.003" iyz="0" izz="0.003"/>
    </inertial>
    <visual group="default">
      <origin rpy="0 1.5708 0" xyz="0.001 -0.111 0.0"/>
      <geometry>
        <cylinder length="0.125" radius="0.045"/>
      </geometry>
    </visual>
    <collision group="default">
      <origin rpy="0 1.5708 0" xyz="0.001 -0.111 0.0"/>
      <geometry>
        <cylinder length="0.125" radius="0.045"/>
      </geometry>
    </collision>
    <visual group="default">
      <origin rpy="0 1.5707963267949 0" xyz="0.001 -0.043 0.01"/>
      <geometry>
        <box size="0.04 0.07 0.13"/>
      </geometry>
    </visual>
    <collision group="default">
      <origin rpy="0 1.5707963267949 0" xyz="0.001 -0.043 0.01"/>
      <geometry>
        <box size="0.04 0.07 0.13"/>
      </geometry>
    </collision>
  </link>
  <link name="r_uglut">
    <inertial>
      <mass value="1.51622"/>
      <origin rpy="0 -0 0" xyz="0.00529262 0.00344732 0.00313046"/>
      <inertia ixx="0.0327037" ixy="3.79607e-08" ixz="-2.79549e-05" iyy="0.0174182" iyz="3.2735e-08" izz="0.0071591"/>
    </inertial>
    <visual group="default">
      <origin rpy="0 1.5707963267949 0" xyz="0 0 0"/>
      <geometry>
        <cylinder length="0.078396" radius="0.019096"/>
      </geometry>
    </visual>
    <collision group="default">
      <origin rpy="0 1.5707963267949 0" xyz="0 0 0"/>
      <geometry>
        <cylinder length="0.078396" radius="0.019096"/>
      </geometry>
    </collision>
    <visual group="default">
      <origin rpy="0 0 0" xyz="0 0 0"/>
      <geometry>
        <cylinder length="0.080842" radius="0.019841"/>
      </geometry>
    </visual>
    <collision group="default">
      <origin rpy="0 0 0" xyz="0 0 0"/>
      <geometry>
        <cylinder length="0.080842" radius="0.019841"/>
      </geometry>
    </collision>
  </link>
  <link name="r_uleg">
    <inertial>
      <mass value="7.227"/>
      <origin rpy="0 -0 0" xyz="0 0 -0.21"/>
      <inertia ixx="0.0453457" ixy="0" ixz="0" iyy="0.09" iyz="0" izz="0.0071591"/>
    </inertial>
    <collision group="hamstring">
      <origin rpy="0 0 0" xyz="-0.1179 -0.02085 -0.18"/>
      <geometry>
        <sphere radius="0"/>
      </geometry>
    </collision>
    <visual>
      <origin rpy="0 0 0" xyz="-0.1179 -0.02085 -0.18"/>
      <geometry>
        <sphere radius="0.01"/>
      </geometry>
    </visual>
    <collision group="hamstring">
      <origin rpy="0 0 0" xyz="-0.1179 -0.02085 -0.08"/>
      <geometry>
        <sphere radius="0"/>
      </geometry>
    </collision>
    <visual>
      <origin rpy="0 0 0" xyz="-0.1179 -0.02085 -0.08"/>
      <geometry>
        <sphere radius="0.01"/>
      </geometry>
    </visual>
    <visual group="default">
      <origin rpy="0 0 0" xyz="-0.0179 -0.02085 -0.13"/>
      <geometry>
        <cylinder length="0.10" radius="0.1"/>
      </geometry>
    </visual>
    <collision group="default">
      <origin rpy="0 0 0" xyz="-0.0179 -0.02085 -0.13"/>
      <geometry>
        <cylinder length="0.10" radius="0.1"/>
      </geometry>
    </collision>
    <visual group="default">
      <origin rpy="0 -0.3 0" xyz="-0.03 -0.01 -0.23"/>
      <geometry>
        <cylinder length="0.15" radius="0.07"/>
      </geometry>
    </visual>
    <collision group="default">
      <origin rpy="0 -0.3 0" xyz="-0.03 -0.01 -0.23"/>
      <geometry>
        <cylinder length="0.15" radius="0.07"/>
      </geometry>
    </collision>
    <visual group="default">
      <origin rpy="0 0.3 0" xyz="-0.005 -0.01 -0.23"/>
      <geometry>
        <cylinder length="0.15" radius="0.07"/>
      </geometry>
    </visual>
    <collision group="default">
      <origin rpy="0 0.3 0" xyz="-0.005 -0.01 -0.23"/>
      <geometry>
        <cylinder length="0.15" radius="0.07"/>
      </geometry>
    </collision>
    <visual group="default">
      <origin rpy="0.25 0 0" xyz="-0.02 -0.03 -0.23"/>
      <geometry>
        <cylinder length="0.15" radius="0.07"/>
      </geometry>
    </visual>
    <collision group="default">
      <origin rpy="0.25 0 0" xyz="-0.02 -0.03 -0.23"/>
      <geometry>
        <cylinder length="0.15" radius="0.07"/>
      </geometry>
    </collision>
  </link>
  <link name="utorso">
    <inertial>
      <mass value="15.2272"/>
      <origin rpy="0 -0 0" xyz="0.02 -0.001 0.211"/>
      <inertia ixx="0.395" ixy="0" ixz="0.083" iyy="0.544742" iyz="-0.003" izz="0.10973"/>
    </inertial>
    <collision group="front">
      <origin rpy="0 0 0" xyz="0.2040 0.12 0.3471"/>
      <geometry>
        <sphere radius="0"/>
      </geometry>
    </collision>
    <visual>
      <origin rpy="0 0 0" xyz="0.2040 0.12 0.3471"/>
      <geometry>
        <sphere radius="0.01"/>
      </geometry>
    </visual>
    <collision group="front">
      <origin rpy="0 0 0" xyz="0.2040 -0.12 0.3471"/>
      <geometry>
        <sphere radius="0"/>
      </geometry>
    </collision>
    <visual>
      <origin rpy="0 0 0" xyz="0.2040 -0.12 0.3471"/>
      <geometry>
        <sphere radius="0.01"/>
      </geometry>
    </visual>
    <collision group="front">
      <origin rpy="0 0 0" xyz="0.2040 0.12 0.0309"/>
      <geometry>
        <sphere radius="0"/>
      </geometry>
    </collision>
    <visual>
      <origin rpy="0 0 0" xyz="0.2040 0.12 0.0309"/>
      <geometry>
        <sphere radius="0.01"/>
      </geometry>
    </visual>
    <collision group="front">
      <origin rpy="0 0 0" xyz="0.2040 -0.12 0.0309"/>
      <geometry>
        <sphere radius="0"/>
      </geometry>
    </collision>
    <visual>
      <origin rpy="0 0 0" xyz="0.2040 -0.12 0.0309"/>
      <geometry>
        <sphere radius="0.01"/>
      </geometry>
    </visual>
    <collision group="back">
      <origin rpy="0 0 0" xyz="-0.1148 0.12 0.3471"/>
      <geometry>
        <sphere radius="0"/>
      </geometry>
    </collision>
    <visual>
      <origin rpy="0 0 0" xyz="-0.1148 0.12 0.3471"/>
      <geometry>
        <sphere radius="0.01"/>
      </geometry>
    </visual>
    <collision group="back">
      <origin rpy="0 0 0" xyz="-0.1148 -0.12 0.3471"/>
      <geometry>
        <sphere radius="0"/>
      </geometry>
    </collision>
    <visual>
      <origin rpy="0 0 0" xyz="-0.1148 -0.12 0.3471"/>
      <geometry>
        <sphere radius="0.01"/>
      </geometry>
    </visual>
    <collision group="back">
      <origin rpy="0 0 0" xyz="-0.1148 0.12 0.0309"/>
      <geometry>
        <sphere radius="0"/>
      </geometry>
    </collision>
    <visual>
      <origin rpy="0 0 0" xyz="-0.1148 0.12 0.0309"/>
      <geometry>
        <sphere radius="0.01"/>
      </geometry>
    </visual>
    <collision group="back">
      <origin rpy="0 0 0" xyz="-0.1148 -0.12 0.0309"/>
      <geometry>
        <sphere radius="0"/>
      </geometry>
    </collision>
    <visual>
      <origin rpy="0 0 0" xyz="-0.1148 -0.12 0.0309"/>
      <geometry>
        <sphere radius="0.01"/>
      </geometry>
    </visual>
    <visual group="default">
      <origin rpy="0 -0 0" xyz="0.0446 0 0.1869"/>
      <geometry>
        <box size="0.3188 0.24 0.3162"/>
      </geometry>
    </visual>
    <collision group="default">
      <origin rpy="0 -0 0" xyz="0.0446 0 0.1869"/>
      <geometry>
        <box size="0.3188 0.24 0.3162"/>
      </geometry>
    </collision>
    <visual group="default">
      <origin rpy="-0.5236 0 0" xyz="0.024 0.16 0.18"/>
      <geometry>
        <cylinder length="0.22375" radius="0.0363"/>
      </geometry>
    </visual>
    <collision group="default">
      <origin rpy="-0.5236 0 0" xyz="0.024 0.16 0.18"/>
      <geometry>
        <cylinder length="0.22375" radius="0.0363"/>
      </geometry>
    </collision>
    <visual group="default">
      <origin rpy="0.5236 0 0" xyz="0.024 -0.16 0.18"/>
      <geometry>
        <cylinder length="0.22375" radius="0.0363"/>
      </geometry>
    </visual>
    <collision group="default">
      <origin rpy="0.5236 0 0" xyz="0.024 -0.16 0.18"/>
      <geometry>
        <cylinder length="0.22375" radius="0.0363"/>
      </geometry>
    </collision>
  </link>
  <collision_filter_group name="r_leg">
    <member link="pelvis"/>
    <member link="r_uglut"/>
    <member link="r_lglut"/>
    <member link="r_uleg"/>
    <member link="r_lleg"/>
    <member link="r_talus"/>
    <member link="r_foot"/>
    <ignored_collision_filter_group collision_filter_group="r_leg"/>
  </collision_filter_group>
  <collision_filter_group name="l_leg">
    <member link="pelvis"/>
    <member link="l_uglut"/>
    <member link="l_lglut"/>
    <member link="l_uleg"/>
    <member link="l_lleg"/>
    <member link="l_talus"/>
    <member link="l_foot"/>
    <ignored_collision_filter_group collision_filter_group="l_leg"/>
  </collision_filter_group>
  <collision_filter_group name="r_arm">
    <member link="r_scap"/>
    <member link="r_uarm"/>
    <member link="r_larm"/>
    <member link="r_farm"/>
    <member link="r_hand"/>
    <ignored_collision_filter_group collision_filter_group="r_arm"/>
  </collision_filter_group>
  <collision_filter_group name="l_arm">
    <member link="l_scap"/>
    <member link="l_uarm"/>
    <member link="l_larm"/>
    <member link="l_farm"/>
    <member link="l_hand"/>
    <ignored_collision_filter_group collision_filter_group="l_arm"/>
  </collision_filter_group>
  <collision_filter_group name="shoulders">
    <member link="utorso"/>
    <member link="r_scap"/>
    <member link="l_scap"/>
    <ignored_collision_filter_group collision_filter_group="shoulders"/>
  </collision_filter_group>
  <joint name="back_lbz" type="revolute">
    <origin rpy="0 -0 0" xyz="-0.0125 0 0"/>
    <axis xyz="0 0 1"/>
    <parent link="pelvis"/>
    <child link="ltorso"/>
    <dynamics damping="10" friction="0"/>
    <limit effort="124.016" lower="-0.610865" upper="0.610865" velocity="12"/>
    <safety_controller k_position="100" k_velocity="100" soft_lower_limit="-10.6109" soft_upper_limit="10.6109"/>
  </joint>
  <joint name="back_mby" type="revolute">
    <origin rpy="0 -0 0" xyz="0 0 0.09"/>
    <axis xyz="0 1 0"/>
    <parent link="ltorso"/>
    <child link="mtorso"/>
    <dynamics damping="10" friction="0"/>
    <limit effort="206.843" lower="-1.2" upper="1.28" velocity="12"/>
    <safety_controller k_position="100" k_velocity="100" soft_lower_limit="-11.2" soft_upper_limit="11.28"/>
  </joint>
  <joint name="back_ubx" type="revolute">
    <origin rpy="0 -0 0" xyz="0 0 0.05"/>
    <axis xyz="1 0 0"/>
    <parent link="mtorso"/>
    <child link="utorso"/>
    <dynamics damping="10" friction="0"/>
    <limit effort="94.91" lower="-0.790809" upper="0.790809" velocity="12"/>
    <safety_controller k_position="100" k_velocity="100" soft_lower_limit="-10.7908" soft_upper_limit="10.7908"/>
  </joint>
  <joint name="l_arm_elx" type="revolute">
    <origin rpy="0 -0 0" xyz="0 0.121 0.013"/>
    <axis xyz="1 0 0"/>
    <parent link="l_uarm"/>
    <child link="l_larm"/>
    <dynamics damping="1.0" friction="0"/>
    <limit effort="114" lower="0" upper="2.35619" velocity="12"/>
    <safety_controller k_position="100" k_velocity="100" soft_lower_limit="-10" soft_upper_limit="12.3562"/>
  </joint>
  <joint name="l_arm_ely" type="revolute">
    <origin rpy="0 -0 0" xyz="0 0.185 0"/>
    <axis xyz="0 1 0"/>
    <parent link="l_scap"/>
    <child link="l_uarm"/>
    <dynamics damping="1.0" friction="0"/>
    <limit effort="114" lower="0" upper="3.14159" velocity="12"/>
    <safety_controller k_position="100" k_velocity="100" soft_lower_limit="-10" soft_upper_limit="13.1416"/>
  </joint>
  <joint name="l_arm_mwx" type="revolute">
    <origin rpy="0 -0 0" xyz="0 0.058 0"/>
    <axis xyz="1 0 0"/>
    <parent link="l_farm"/>
    <child link="l_hand"/>
    <dynamics damping="1.0" friction="0"/>
    <limit effort="60" lower="-0.436" upper="1.571" velocity="12"/>
    <safety_controller k_position="100" k_velocity="100" soft_lower_limit="-10.436" soft_upper_limit="11.571"/>
  </joint>
  <joint name="l_arm_shx" type="revolute">
    <origin rpy="0 -0 0" xyz="0 0.075 0.036"/>
    <axis xyz="1 0 0"/>
    <parent link="l_clav"/>
    <child link="l_scap"/>
    <dynamics damping="1.0" friction="0"/>
    <limit effort="170" lower="-1.39626" upper="1.74533" velocity="12"/>
    <safety_controller k_position="100" k_velocity="100" soft_lower_limit="-11.3963" soft_upper_limit="11.7453"/>
  </joint>
  <joint name="l_arm_usy" type="revolute">
    <origin rpy="0 -0 0" xyz="0.024 0.221 0.289"/>
    <axis xyz="0 0.5 0.866025"/>
    <parent link="utorso"/>
    <child link="l_clav"/>
    <dynamics damping="1.0" friction="0"/>
    <limit effort="212" lower="-1.9635" upper="1.9635" velocity="12"/>
    <safety_controller k_position="100" k_velocity="100" soft_lower_limit="-11.9635" soft_upper_limit="11.9635"/>
  </joint>
  <joint name="l_arm_uwy" type="revolute">
    <origin rpy="0 -0 0" xyz="0 0.188 -0.013"/>
    <axis xyz="0 1 0"/>
    <parent link="l_larm"/>
    <child link="l_farm"/>
    <dynamics damping="1.0" friction="0"/>
    <limit effort="114" lower="-1.571" upper="1.571" velocity="12"/>
    <safety_controller k_position="100" k_velocity="100" soft_lower_limit="-11.571" soft_upper_limit="11.571"/>
  </joint>
  <joint name="l_leg_kny" type="revolute">
    <origin rpy="0 -0 0" xyz="-0.05 0 -0.374"/>
    <axis xyz="0 1 0"/>
    <parent link="l_uleg"/>
    <child link="l_lleg"/>
    <dynamics damping="1.0" friction="0"/>
    <limit effort="400" lower="0" upper="2.45" velocity="12"/>
    <safety_controller k_position="100" k_velocity="100" soft_lower_limit="-10" soft_upper_limit="12.45"/>
  </joint>
  <joint name="l_leg_lax" type="revolute">
    <origin rpy="0 -0 0" xyz="0 0 0"/>
    <axis xyz="1 0 0"/>
    <parent link="l_talus"/>
    <child link="l_foot"/>
    <dynamics damping="1.0" friction="0"/>
    <limit effort="90" lower="-0.436" upper="0.436" velocity="12"/>
    <safety_controller k_position="100" k_velocity="100" soft_lower_limit="-10.436" soft_upper_limit="10.436"/>
  </joint>
  <joint name="l_leg_lhy" type="revolute">
    <origin rpy="0 -0 0" xyz="0.05 0 -0.05"/>
    <axis xyz="0 1 0"/>
    <parent link="l_lglut"/>
    <child link="l_uleg"/>
    <dynamics damping="1.0" friction="0"/>
    <limit effort="260" lower="-1.75" upper="0.524" velocity="12"/>
    <safety_controller k_position="100" k_velocity="100" soft_lower_limit="-11.75" soft_upper_limit="10.524"/>
  </joint>
  <joint name="l_leg_mhx" type="revolute">
    <origin rpy="0 -0 0" xyz="0 0 0"/>
    <axis xyz="1 0 0"/>
    <parent link="l_uglut"/>
    <child link="l_lglut"/>
    <dynamics damping="1.0" friction="0"/>
    <limit effort="180" lower="-0.47" upper="0.495" velocity="12"/>
    <safety_controller k_position="100" k_velocity="100" soft_lower_limit="-10.47" soft_upper_limit="10.495"/>
  </joint>
  <joint name="l_leg_uay" type="revolute">
    <origin rpy="0 -0 0" xyz="0 0 -0.422"/>
    <axis xyz="0 1 0"/>
    <parent link="l_lleg"/>
    <child link="l_talus"/>
    <dynamics damping="1.0" friction="0"/>
    <limit effort="220" lower="-0.9" upper="0.698" velocity="12"/>
    <safety_controller k_position="100" k_velocity="100" soft_lower_limit="-10.698" soft_upper_limit="10.698"/>
  </joint>
  <joint name="l_leg_uhz" type="revolute">
    <origin rpy="0 -0 0" xyz="0 0.089 0"/>
    <axis xyz="0 0 1"/>
    <parent link="pelvis"/>
    <child link="l_uglut"/>
    <dynamics damping="1.0" friction="0"/>
    <limit effort="110" lower="-0.32" upper="1.14" velocity="12"/>
    <safety_controller k_position="100" k_velocity="100" soft_lower_limit="-10.32" soft_upper_limit="11.14"/>
  </joint>
  <joint name="neck_ay" type="revolute">
    <!-- per slides on sensor head kinematics 2013-02-13 -->
    <origin rpy="0 -0 0" xyz="0.21672 0 0.53796"/>
    <axis xyz="0 1 0"/>
    <parent link="utorso"/>
    <child link="head"/>
    <dynamics damping="1.0" friction="0"/>
    <!-- per slides on sensor head kinematics 2012-12-14 -->
    <limit effort="5" lower="-0.610865238" upper="1.13446401" velocity="12"/>
    <safety_controller k_position="100" k_velocity="100" soft_lower_limit="-10.610865238" soft_upper_limit="11.13446401"/>
  </joint>
  <joint name="r_arm_elx" type="revolute">
    <origin rpy="0 -0 0" xyz="0 -0.121 0.013"/>
    <axis xyz="1 0 0"/>
    <parent link="r_uarm"/>
    <child link="r_larm"/>
    <dynamics damping="1.0" friction="0"/>
    <limit effort="114" lower="-2.35619" upper="0" velocity="12"/>
    <safety_controller k_position="100" k_velocity="100" soft_lower_limit="-12.3562" soft_upper_limit="10"/>
  </joint>
  <joint name="r_arm_ely" type="revolute">
    <origin rpy="0 -0 0" xyz="0 -0.185 0"/>
    <axis xyz="0 1 0"/>
    <parent link="r_scap"/>
    <child link="r_uarm"/>
    <dynamics damping="1.0" friction="0"/>
    <limit effort="114" lower="0" upper="3.14159" velocity="12"/>
    <safety_controller k_position="100" k_velocity="100" soft_lower_limit="-10" soft_upper_limit="13.1416"/>
  </joint>
  <joint name="r_arm_mwx" type="revolute">
    <origin rpy="0 -0 0" xyz="0 -0.058 0"/>
    <axis xyz="1 0 0"/>
    <parent link="r_farm"/>
    <child link="r_hand"/>
    <dynamics damping="1.0" friction="0"/>
    <limit effort="60" lower="-1.571" upper="0.436" velocity="12"/>
    <safety_controller k_position="100" k_velocity="100" soft_lower_limit="-11.571" soft_upper_limit="10.436"/>
  </joint>
  <joint name="r_arm_shx" type="revolute">
    <origin rpy="0 -0 0" xyz="0 -0.075 0.036"/>
    <axis xyz="1 0 0"/>
    <parent link="r_clav"/>
    <child link="r_scap"/>
    <dynamics damping="1.0" friction="0"/>
    <limit effort="170" lower="-1.74533" upper="1.39626" velocity="12"/>
    <safety_controller k_position="100" k_velocity="100" soft_lower_limit="-11.7453" soft_upper_limit="11.3963"/>
  </joint>
  <joint name="r_arm_usy" type="revolute">
    <origin rpy="0 -0 0" xyz="0.024 -0.221 0.289"/>
    <axis xyz="0 0.5 -0.866025"/>
    <parent link="utorso"/>
    <child link="r_clav"/>
    <dynamics damping="1.0" friction="0"/>
    <limit effort="212" lower="-1.9635" upper="1.9635" velocity="12"/>
    <safety_controller k_position="100" k_velocity="100" soft_lower_limit="-11.9635" soft_upper_limit="11.9635"/>
  </joint>
  <joint name="r_arm_uwy" type="revolute">
    <origin rpy="0 -0 0" xyz="0 -0.188 -0.013"/>
    <axis xyz="0 1 0"/>
    <parent link="r_larm"/>
    <child link="r_farm"/>
    <dynamics damping="1.0" friction="0"/>
    <limit effort="114" lower="-1.571" upper="1.571" velocity="12"/>
    <safety_controller k_position="100" k_velocity="100" soft_lower_limit="-11.571" soft_upper_limit="11.571"/>
  </joint>
  <joint name="r_leg_kny" type="revolute">
    <origin rpy="0 -0 0" xyz="-0.05 0 -0.374"/>
    <axis xyz="0 1 0"/>
    <parent link="r_uleg"/>
    <child link="r_lleg"/>
    <dynamics damping="1.0" friction="0"/>
    <limit effort="400" lower="0" upper="2.45" velocity="12"/>
    <safety_controller k_position="100" k_velocity="100" soft_lower_limit="-10" soft_upper_limit="12.45"/>
  </joint>
  <joint name="r_leg_lax" type="revolute">
    <origin rpy="0 -0 0" xyz="0 0 0"/>
    <axis xyz="1 0 0"/>
    <parent link="r_talus"/>
    <child link="r_foot"/>
    <dynamics damping="1.0" friction="0"/>
    <limit effort="90" lower="-0.436" upper="0.436" velocity="12"/>
    <safety_controller k_position="100" k_velocity="100" soft_lower_limit="-10.436" soft_upper_limit="10.436"/>
  </joint>
  <joint name="r_leg_lhy" type="revolute">
    <origin rpy="0 -0 0" xyz="0.05 0 -0.05"/>
    <axis xyz="0 1 0"/>
    <parent link="r_lglut"/>
    <child link="r_uleg"/>
    <dynamics damping="1.0" friction="0"/>
    <limit effort="260" lower="-1.745" upper="0.524" velocity="12"/>
    <safety_controller k_position="100" k_velocity="100" soft_lower_limit="-11.745" soft_upper_limit="10.524"/>
  </joint>
  <joint name="r_leg_mhx" type="revolute">
    <origin rpy="0 -0 0" xyz="0 0 0"/>
    <axis xyz="1 0 0"/>
    <parent link="r_uglut"/>
    <child link="r_lglut"/>
    <dynamics damping="1.0" friction="0"/>
    <limit effort="180" lower="-0.495" upper="0.47" velocity="12"/>
    <safety_controller k_position="100" k_velocity="100" soft_lower_limit="-10.495" soft_upper_limit="10.47"/>
  </joint>
  <joint name="r_leg_uay" type="revolute">
    <origin rpy="0 -0 0" xyz="0 0 -0.422"/>
    <axis xyz="0 1 0"/>
    <parent link="r_lleg"/>
    <child link="r_talus"/>
    <dynamics damping="1.0" friction="0"/>
    <limit effort="220" lower="-0.9" upper="0.698" velocity="12"/>
    <safety_controller k_position="100" k_velocity="100" soft_lower_limit="-10.698" soft_upper_limit="10.698"/>
  </joint>
  <joint name="r_leg_uhz" type="revolute">
    <origin rpy="0 -0 0" xyz="0 -0.089 0"/>
    <axis xyz="0 0 1"/>
    <parent link="pelvis"/>
    <child link="r_uglut"/>
    <dynamics damping="1.0" friction="0"/>
    <limit effort="110" lower="-1.14" upper="0.32" velocity="12"/>
    <safety_controller k_position="100" k_velocity="100" soft_lower_limit="-11.14" soft_upper_limit="10.32"/>
  </joint>
  <link name="right_palm">
    <origin rpy="0 0 0" xyz="0 0 0"/>
    <inertial>
      <mass value="0.3"/>
      <origin xyz="0 0 0"/>
      <inertia ixx="0.01" ixy="0" ixz="0" iyy="0.01" iyz="0" izz="0.01"/>
    </inertial>
    <!-- begin simple shape approximation of palm -->
    <collision group="default">
      <origin rpy="0 1.57079632679 -0.9" xyz="0.069 0.016 0.038"/>
      <geometry>
        <cylinder length="0.100" radius="0.013"/>
      </geometry>
    </collision>
    <collision group="other">
      <origin rpy="0.41 0 -0.9" xyz="0.064 0.008 0.021"/>
      <geometry>
        <box size="0.09 .035 .05"/>
      </geometry>
    </collision>
    <collision group="other">
      <origin rpy="0 1.57079632679 0" xyz="0.02 0 -0.005"/>
      <geometry>
        <cylinder length="0.05" radius="0.038"/>
      </geometry>
    </collision>
    <collision group="other">
      <origin rpy="0 0 0.37" xyz="0.11 -0.01 -0.005"/>
      <geometry>
        <box size="0.09 .03 .06"/>
      </geometry>
    </collision>
    <collision group="other">
      <origin rpy="0 0 0.37" xyz="0.09 0.02 -0.005"/>
      <geometry>
        <box size="0.09 .03 .06"/>
      </geometry>
    </collision>
    <collision group="knuckle">
      <origin rpy="0 0 0" xyz="0.175 0 0"/>
      <geometry>
        <sphere radius="0"/>
      </geometry>
    </collision>
    <visual group="knuckle">
      <origin rpy="0 0 0" xyz="0.175 0 0"/>
      <geometry>
        <sphere radius="0.005"/>
      </geometry>
    </visual>
    <collision group="other">
      <origin rpy="0 0 0.37" xyz="0.060 0.05 -0.005"/>
      <geometry>
        <box size="0.09 .03 .06"/>
      </geometry>
    </collision>
    <collision group="other">
      <origin rpy="0 0 0.79" xyz="0.044 -0.04 -0.005"/>
      <geometry>
        <box size="0.09 .03 .06"/>
      </geometry>
    </collision>
    <!--   end simple shape approximation of palm -->
    <!-- begin visual shape approximation of palm -->
    <visual>
      <origin rpy="0 1.57079632679 -0.9" xyz="0.069 0.016 0.038"/>
      <geometry>
        <cylinder length="0.100" radius="0.013"/>
      </geometry>
      <material name="right_sandia_hand_skin">
        <color rgba="0.835 0.655 0.345 1.0"/>
      </material>
    </visual>
    <visual>
      <origin rpy="0.41 0 -0.9" xyz="0.064 0.008 0.021"/>
      <geometry>
        <box size="0.09 .035 .05"/>
      </geometry>
      <material name="right_sandia_hand_skin">
        <color rgba="0.835 0.655 0.345 1.0"/>
      </material>
    </visual>
    <visual>
      <origin rpy="0 1.57079632679 0" xyz="0.02 0 -0.005"/>
      <geometry>
        <cylinder length="0.05" radius="0.038"/>
      </geometry>
      <material name="right_sandia_hand_skin">
        <color rgba="0.835 0.655 0.345 1.0"/>
      </material>
    </visual>
    <visual>
      <origin rpy="0 0 0.37" xyz="0.11 -0.01 -0.005"/>
      <geometry>
        <box size="0.09 .03 .06"/>
      </geometry>
      <material name="right_sandia_hand_skin">
        <color rgba="0.835 0.655 0.345 1.0"/>
      </material>
    </visual>
    <visual>
      <origin rpy="0 0 0.37" xyz="0.09 0.02 -0.005"/>
      <geometry>
        <box size="0.09 .03 .06"/>
      </geometry>
      <material name="right_sandia_hand_skin">
        <color rgba="0.835 0.655 0.345 1.0"/>
      </material>
    </visual>
    <visual>
      <origin rpy="0 0 0.37" xyz="0.060 0.05 -0.005"/>
      <geometry>
        <box size="0.09 .03 .06"/>
      </geometry>
      <material name="right_sandia_hand_skin">
        <color rgba="0.835 0.655 0.345 1.0"/>
      </material>
    </visual>
    <visual>
      <origin rpy="0 0 0.79" xyz="0.044 -0.04 -0.005"/>
      <geometry>
        <box size="0.09 .03 .06"/>
      </geometry>
      <material name="right_sandia_hand_skin">
        <color rgba="0.835 0.655 0.345 1.0"/>
      </material>
    </visual>
    <!--   end visual shape approximation of palm -->
    <!-- begin collision mesh of f2 ->
      <collision group="default">
        <origin xyz="0 0 0" rpy="0 0 0"/>
        <geometry>
          <mesh filename="package://sandia_hand_description/meshes/palm.stl"/>
        </geometry>
      </collision>
      <!-   end collision mesh of f2 -->
    <!-- begin visual mesh of f2    ->
      <visual>
        <origin xyz="0 0 0" rpy="0 0 0"/>
        <geometry>
          <mesh filename="package://sandia_hand_description/meshes/palm.stl"/>
        </geometry>
        <material name="${side}_sandia_hand_skin">
          <color rgba="0.835 0.655 0.345 1.0"/>
        </material>
      </visual>
      <!-   end visual mesh of f2 -->
  </link>
  <joint name="right_sandia_hand_joint" type="fixed">
    <parent link="r_hand"/>
    <child link="right_palm"/>
    <origin rpy="-1.57079 0 -1.57079" xyz="0 -0.1 0"/>
  </joint>
  <link name="left_palm">
    <origin rpy="0 0 0" xyz="0 0 0"/>
    <inertial>
      <mass value="0.3"/>
      <origin xyz="0 0 0"/>
      <inertia ixx="0.01" ixy="0" ixz="0" iyy="0.01" iyz="0" izz="0.01"/>
    </inertial>
    <!-- begin simple shape approximation of palm -->
    <collision group="default">
      <origin rpy="0 1.57079632679 0.9" xyz="0.069 -0.016 0.038"/>
      <geometry>
        <cylinder length="0.100" radius="0.013"/>
      </geometry>
    </collision>
    <collision group="other">
      <origin rpy="0.41 0 0.9" xyz="0.064 -0.008 0.021"/>
      <geometry>
        <box size="0.09 .035 .05"/>
      </geometry>
    </collision>
    <collision group="other">
      <origin rpy="0 1.57079632679 0" xyz="0.02 0 -0.005"/>
      <geometry>
        <cylinder length="0.05" radius="0.038"/>
      </geometry>
    </collision>
    <collision group="other">
      <origin rpy="0 0 -0.37" xyz="0.11 0.01 -0.005"/>
      <geometry>
        <box size="0.09 .03 .06"/>
      </geometry>
    </collision>
    <collision group="other">
      <origin rpy="0 0 -0.37" xyz="0.09 -0.02 -0.005"/>
      <geometry>
        <box size="0.09 .03 .06"/>
      </geometry>
    </collision>
    <collision group="knuckle">
      <origin rpy="0 0 0" xyz="0.175 0 0"/>
      <geometry>
        <sphere radius="0"/>
      </geometry>
    </collision>
    <visual group="knuckle">
      <origin rpy="0 0 0" xyz="0.175 0 0"/>
      <geometry>
        <sphere radius="0.005"/>
      </geometry>
    </visual>
    <collision group="other">
      <origin rpy="0 0 -0.37" xyz="0.060 -0.05 -0.005"/>
      <geometry>
        <box size="0.09 .03 .06"/>
      </geometry>
    </collision>
    <collision group="other">
      <origin rpy="0 0 -0.79" xyz="0.044 0.04 -0.005"/>
      <geometry>
        <box size="0.09 .03 .06"/>
      </geometry>
    </collision>
    <!--   end simple shape approximation of palm -->
    <!-- begin visual shape approximation of palm -->
    <visual>
      <origin rpy="0 1.57079632679 0.9" xyz="0.069 -0.016 0.038"/>
      <geometry>
        <cylinder length="0.100" radius="0.013"/>
      </geometry>
      <material name="left_sandia_hand_skin">
        <color rgba="0.835 0.655 0.345 1.0"/>
      </material>
    </visual>
    <visual>
      <origin rpy="0.41 0 0.9" xyz="0.064 -0.008 0.021"/>
      <geometry>
        <box size="0.09 .035 .05"/>
      </geometry>
      <material name="left_sandia_hand_skin">
        <color rgba="0.835 0.655 0.345 1.0"/>
      </material>
    </visual>
    <visual>
      <origin rpy="0 1.57079632679 0" xyz="0.02 0 -0.005"/>
      <geometry>
        <cylinder length="0.05" radius="0.038"/>
      </geometry>
      <material name="left_sandia_hand_skin">
        <color rgba="0.835 0.655 0.345 1.0"/>
      </material>
    </visual>
    <visual>
      <origin rpy="0 0 -0.37" xyz="0.11 0.01 -0.005"/>
      <geometry>
        <box size="0.09 .03 .06"/>
      </geometry>
      <material name="left_sandia_hand_skin">
        <color rgba="0.835 0.655 0.345 1.0"/>
      </material>
    </visual>
    <visual>
      <origin rpy="0 0 -0.37" xyz="0.09 -0.02 -0.005"/>
      <geometry>
        <box size="0.09 .03 .06"/>
      </geometry>
      <material name="left_sandia_hand_skin">
        <color rgba="0.835 0.655 0.345 1.0"/>
      </material>
    </visual>
    <visual>
      <origin rpy="0 0 -0.37" xyz="0.060 -0.05 -0.005"/>
      <geometry>
        <box size="0.09 .03 .06"/>
      </geometry>
      <material name="left_sandia_hand_skin">
        <color rgba="0.835 0.655 0.345 1.0"/>
      </material>
    </visual>
    <visual>
      <origin rpy="0 0 -0.79" xyz="0.044 0.04 -0.005"/>
      <geometry>
        <box size="0.09 .03 .06"/>
      </geometry>
      <material name="left_sandia_hand_skin">
        <color rgba="0.835 0.655 0.345 1.0"/>
      </material>
    </visual>
    <!--   end visual shape approximation of palm -->
    <!-- begin collision mesh of f2 ->
      <collision group="default">
        <origin xyz="0 0 0" rpy="0 0 0"/>
        <geometry>
          <mesh filename="package://sandia_hand_description/meshes/palm.stl"/>
        </geometry>
      </collision>
      <!-   end collision mesh of f2 -->
    <!-- begin visual mesh of f2    ->
      <visual>
        <origin xyz="0 0 0" rpy="0 0 0"/>
        <geometry>
          <mesh filename="package://sandia_hand_description/meshes/palm.stl"/>
        </geometry>
        <material name="${side}_sandia_hand_skin">
          <color rgba="0.835 0.655 0.345 1.0"/>
        </material>
      </visual>
      <!-   end visual mesh of f2 -->
  </link>
  <joint name="left_sandia_hand_joint" type="fixed">
    <parent link="l_hand"/>
    <child link="left_palm"/>
    <origin rpy=" 1.57079 0  1.57079" xyz="0  0.1 0"/>
  </joint>
  <!--<joint name='rwrist' type='fixed'>
  you can specify xyz offset to locate the manipulator
  <origin rpy="0 3.1416  1.57079" xyz="0 -0.1 -0.03"/>
  <parent link='r_hand' />
  <child link='right_palm'/>
  </joint>

  <joint name='lwrist' type='fixed'>
   you can specify xyz offset to locate the manipulator
  <origin rpy="0 3.1416  -1.57079" xyz="0 0.1 -0.03"/>
  <parent link='l_hand' />
  <child link='left_palm'/>
  </joint> -->
  <transmission name="back_lbz_trans" type="pr2_mechanism_model/SimpleTransmission">
    <joint name="back_lbz"/>
    <actuator name="back_lbz_motor"/>
    <mechanicalReduction>1</mechanicalReduction>
  </transmission>
  <transmission name="back_mby_trans" type="pr2_mechanism_model/SimpleTransmission">
    <actuator name="back_mby_motor"/>
    <joint name="back_mby"/>
    <mechanicalReduction>1</mechanicalReduction>
  </transmission>
  <transmission name="back_ubx_trans" type="pr2_mechanism_model/SimpleTransmission">
    <actuator name="back_ubx_motor"/>
    <joint name="back_ubx"/>
    <mechanicalReduction>1</mechanicalReduction>
  </transmission>
  <transmission name="l_arm_elx_trans" type="pr2_mechanism_model/SimpleTransmission">
    <actuator name="l_arm_elx_motor"/>
    <joint name="l_arm_elx"/>
    <mechanicalReduction>1</mechanicalReduction>
  </transmission>
  <transmission name="l_arm_ely_trans" type="pr2_mechanism_model/SimpleTransmission">
    <actuator name="l_arm_ely_motor"/>
    <joint name="l_arm_ely"/>
    <mechanicalReduction>1</mechanicalReduction>
  </transmission>
  <transmission name="l_arm_mwx_trans" type="pr2_mechanism_model/SimpleTransmission">
    <actuator name="l_arm_mwx_motor"/>
    <joint name="l_arm_mwx"/>
    <mechanicalReduction>1</mechanicalReduction>
  </transmission>
  <transmission name="l_arm_shx_trans" type="pr2_mechanism_model/SimpleTransmission">
    <actuator name="l_arm_shx_motor"/>
    <joint name="l_arm_shx"/>
    <mechanicalReduction>1</mechanicalReduction>
  </transmission>
  <transmission name="l_arm_usy_trans" type="pr2_mechanism_model/SimpleTransmission">
    <actuator name="l_arm_usy_motor"/>
    <joint name="l_arm_usy"/>
    <mechanicalReduction>1</mechanicalReduction>
  </transmission>
  <transmission name="l_arm_uwy_trans" type="pr2_mechanism_model/SimpleTransmission">
    <actuator name="l_arm_uwy_motor"/>
    <joint name="l_arm_uwy"/>
    <mechanicalReduction>1</mechanicalReduction>
  </transmission>
  <transmission name="l_leg_kny_trans" type="pr2_mechanism_model/SimpleTransmission">
    <actuator name="l_leg_kny_motor"/>
    <joint name="l_leg_kny"/>
    <mechanicalReduction>1</mechanicalReduction>
  </transmission>
  <transmission name="l_leg_lax_trans" type="pr2_mechanism_model/SimpleTransmission">
    <actuator name="l_leg_lax_motor"/>
    <joint name="l_leg_lax"/>
    <mechanicalReduction>1</mechanicalReduction>
  </transmission>
  <transmission name="l_leg_lhy_trans" type="pr2_mechanism_model/SimpleTransmission">
    <actuator name="l_leg_lhy_motor"/>
    <joint name="l_leg_lhy"/>
    <mechanicalReduction>1</mechanicalReduction>
  </transmission>
  <transmission name="l_leg_mhx_trans" type="pr2_mechanism_model/SimpleTransmission">
    <actuator name="l_leg_mhx_motor"/>
    <joint name="l_leg_mhx"/>
    <mechanicalReduction>1</mechanicalReduction>
  </transmission>
  <transmission name="l_leg_uay_trans" type="pr2_mechanism_model/SimpleTransmission">
    <actuator name="l_leg_uay_motor"/>
    <joint name="l_leg_uay"/>
    <mechanicalReduction>1</mechanicalReduction>
  </transmission>
  <transmission name="l_leg_uhz_trans" type="pr2_mechanism_model/SimpleTransmission">
    <actuator name="l_leg_uhz_motor"/>
    <joint name="l_leg_uhz"/>
    <mechanicalReduction>1</mechanicalReduction>
  </transmission>
  <transmission name="neck_ay_trans" type="pr2_mechanism_model/SimpleTransmission">
    <actuator name="neck_ay_motor"/>
    <joint name="neck_ay"/>
    <mechanicalReduction>1</mechanicalReduction>
  </transmission>
  <transmission name="r_arm_elx_trans" type="pr2_mechanism_model/SimpleTransmission">
    <actuator name="r_arm_elx_motor"/>
    <joint name="r_arm_elx"/>
    <mechanicalReduction>1</mechanicalReduction>
  </transmission>
  <transmission name="r_arm_ely_trans" type="pr2_mechanism_model/SimpleTransmission">
    <actuator name="r_arm_ely_motor"/>
    <joint name="r_arm_ely"/>
    <mechanicalReduction>1</mechanicalReduction>
  </transmission>
  <transmission name="r_arm_mwx_trans" type="pr2_mechanism_model/SimpleTransmission">
    <actuator name="r_arm_mwx_motor"/>
    <joint name="r_arm_mwx"/>
    <mechanicalReduction>1</mechanicalReduction>
  </transmission>
  <transmission name="r_arm_shx_trans" type="pr2_mechanism_model/SimpleTransmission">
    <actuator name="r_arm_shx_motor"/>
    <joint name="r_arm_shx"/>
    <mechanicalReduction>1</mechanicalReduction>
  </transmission>
  <transmission name="r_arm_usy_trans" type="pr2_mechanism_model/SimpleTransmission">
    <actuator name="r_arm_usy_motor"/>
    <joint name="r_arm_usy"/>
    <mechanicalReduction>1</mechanicalReduction>
  </transmission>
  <transmission name="r_arm_uwy_trans" type="pr2_mechanism_model/SimpleTransmission">
    <actuator name="r_arm_uwy_motor"/>
    <joint name="r_arm_uwy"/>
    <mechanicalReduction>1</mechanicalReduction>
  </transmission>
  <transmission name="r_leg_kny_trans" type="pr2_mechanism_model/SimpleTransmission">
    <actuator name="r_leg_kny_motor"/>
    <joint name="r_leg_kny"/>
    <mechanicalReduction>1</mechanicalReduction>
  </transmission>
  <transmission name="r_leg_lax_trans" type="pr2_mechanism_model/SimpleTransmission">
    <actuator name="r_leg_lax_motor"/>
    <joint name="r_leg_lax"/>
    <mechanicalReduction>1</mechanicalReduction>
  </transmission>
  <transmission name="r_leg_lhy_trans" type="pr2_mechanism_model/SimpleTransmission">
    <actuator name="r_leg_lhy_motor"/>
    <joint name="r_leg_lhy"/>
    <mechanicalReduction>1</mechanicalReduction>
  </transmission>
  <transmission name="r_leg_mhx_trans" type="pr2_mechanism_model/SimpleTransmission">
    <actuator name="r_leg_mhx_motor"/>
    <joint name="r_leg_mhx"/>
    <mechanicalReduction>1</mechanicalReduction>
  </transmission>
  <transmission name="r_leg_uay_trans" type="pr2_mechanism_model/SimpleTransmission">
    <actuator name="r_leg_uay_motor"/>
    <joint name="r_leg_uay"/>
    <mechanicalReduction>1</mechanicalReduction>
  </transmission>
  <transmission name="r_leg_uhz_trans" type="pr2_mechanism_model/SimpleTransmission">
    <actuator name="r_leg_uhz_motor"/>
    <joint name="r_leg_uhz"/>
    <mechanicalReduction>1</mechanicalReduction>
  </transmission>
  <link name="head">
    <inertial>
      <origin rpy="0 0 0" xyz="-0.075493 3.3383E-05 0.02774"/>
      <!-- includes mass of hokuyo link and imu -->
      <mass value="1.477574"/>
      <inertia ixx="0.0036053766" ixy="-1.5797E-06" ixz="-0.00089293" iyy="0.002080106" iyz="-6.8415E-07" izz="0.001782985"/>
    </inertial>
    <visual>
      <origin rpy="0 0 0" xyz="-0.0503 0 -0.00195"/>
      <geometry>
        <box size="0.1311 0.12 0.0591"/>
      </geometry>
    </visual>
    <collision>
      <origin rpy="0 0 0" xyz="-0.0503 0 -0.00195"/>
      <geometry>
        <box size="0.1311 0.12 0.0591"/>
      </geometry>
    </collision>
    <visual>
      <origin rpy="0 0 0" xyz="-0.093 0 0.0868"/>
      <geometry>
        <box size="0.0468 0.12 0.1184"/>
      </geometry>
    </visual>
    <collision>
      <origin rpy="0 0 0" xyz="-0.093 0 0.0868"/>
      <geometry>
        <box size="0.0468 0.12 0.1184"/>
      </geometry>
    </collision>
  </link>
</robot>
